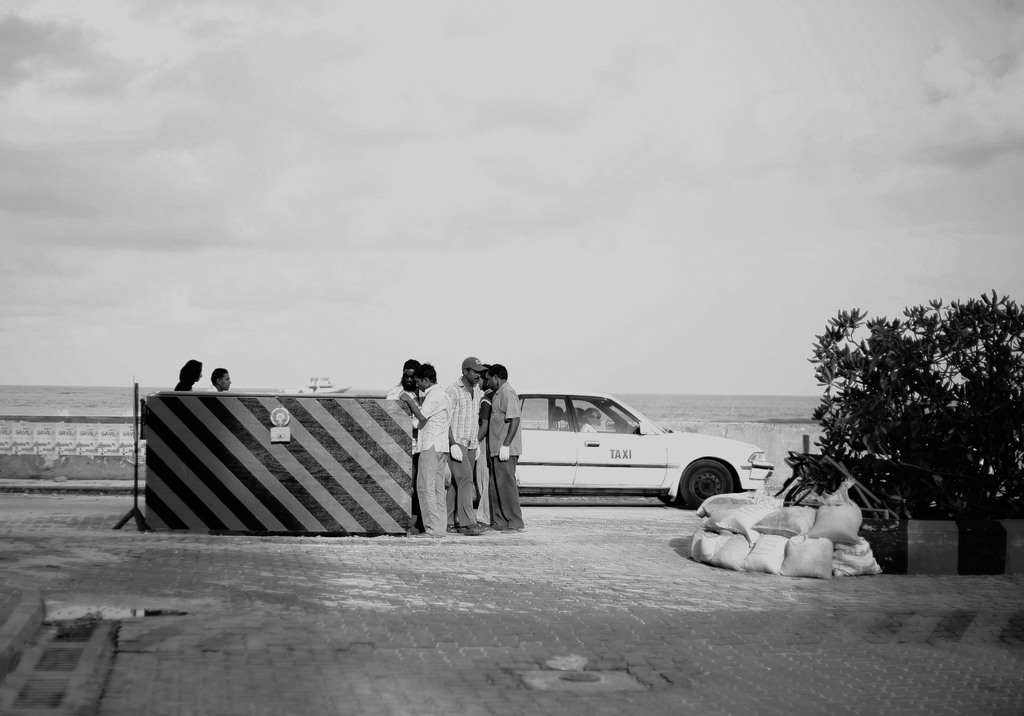Car: (444, 390, 776, 509)
